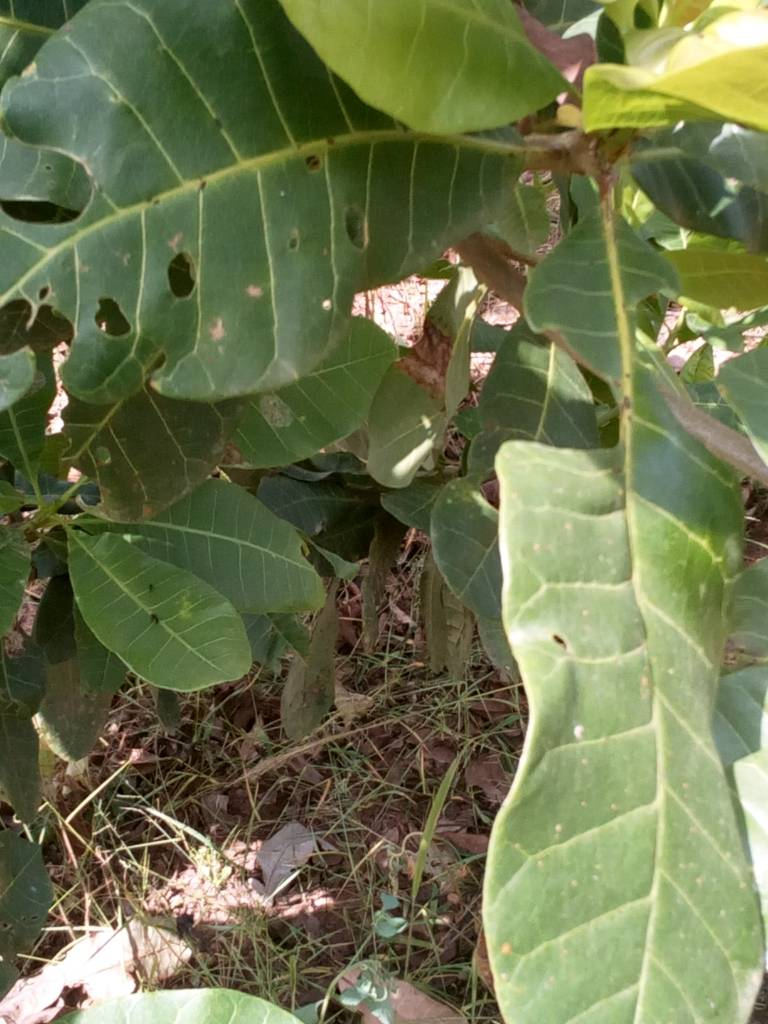Anoplonemis curvipes: (1, 3, 530, 441)
